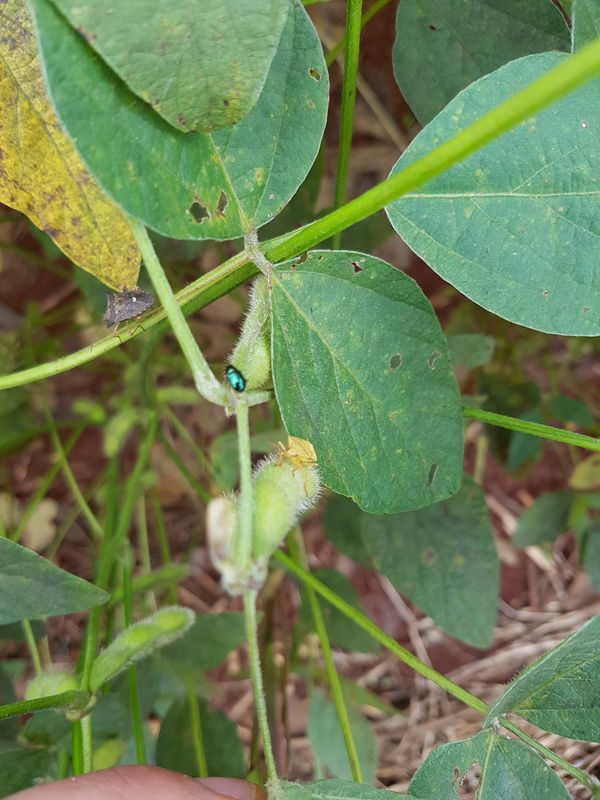Euschistus_heros_adulto: (89, 275, 162, 353)
Euschistus_heros_ninfa: (264, 425, 339, 506)
